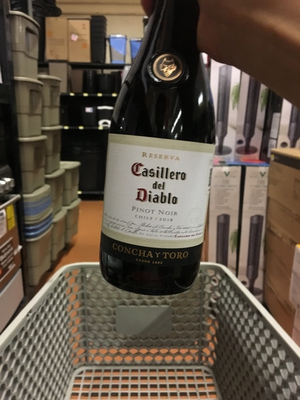casillero del diablo pinot noir: (92, 34, 235, 301)
